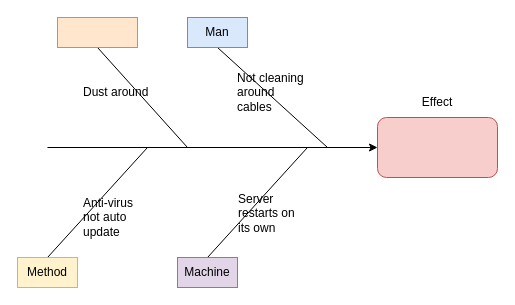
The diagram is 515 pixels wide and 305 high, and some of its shapes have lost their labels. Here are the shapes that lost their labels. From the top down, the centre of each, then its label:
[97,32]: Environment
[437,147]: SERVER GOING DOWN
